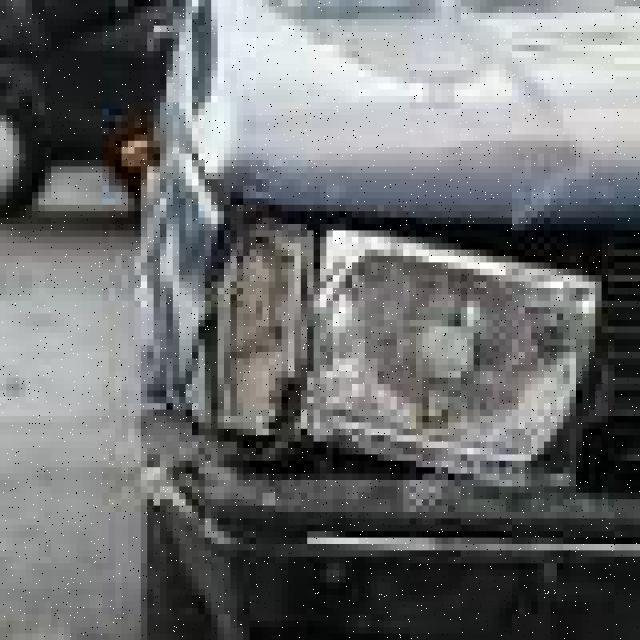Headlight-Damage: (102, 198, 634, 512)
